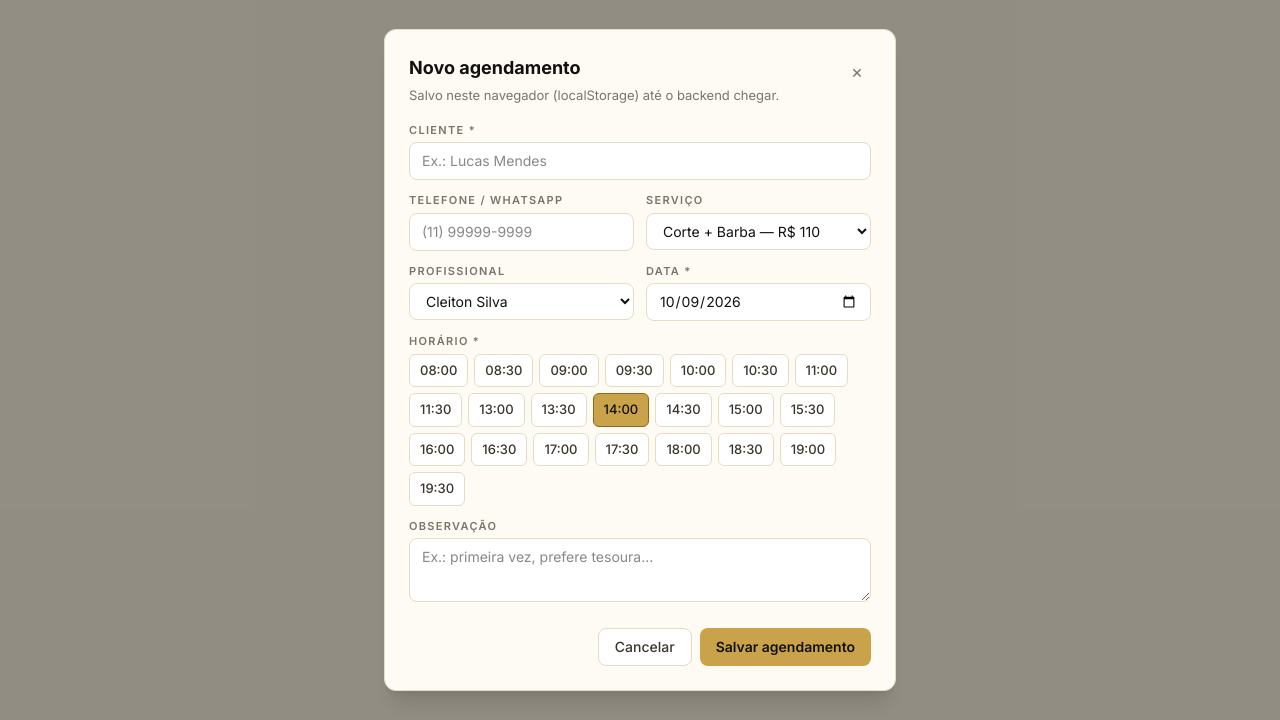
Serviços inativos × novos agendamentos › inativar com o modal aberto recusa salvar serviço inativo
The width and height of the screenshot is (1280, 720).
Type "Ana Souza" into the field labelled "Cliente *" at (640, 161), box [409,142,871,180]
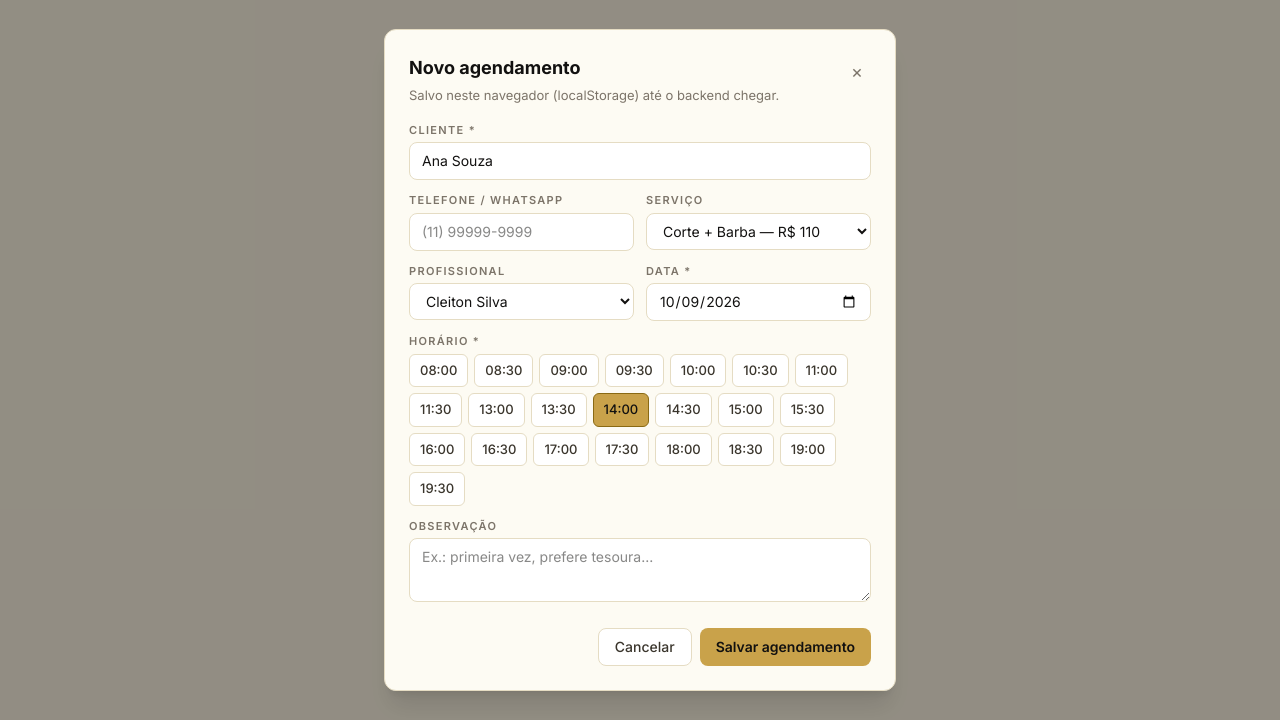
Click the button "Salvar agendamento" at (785, 647), box [700,628,871,666]
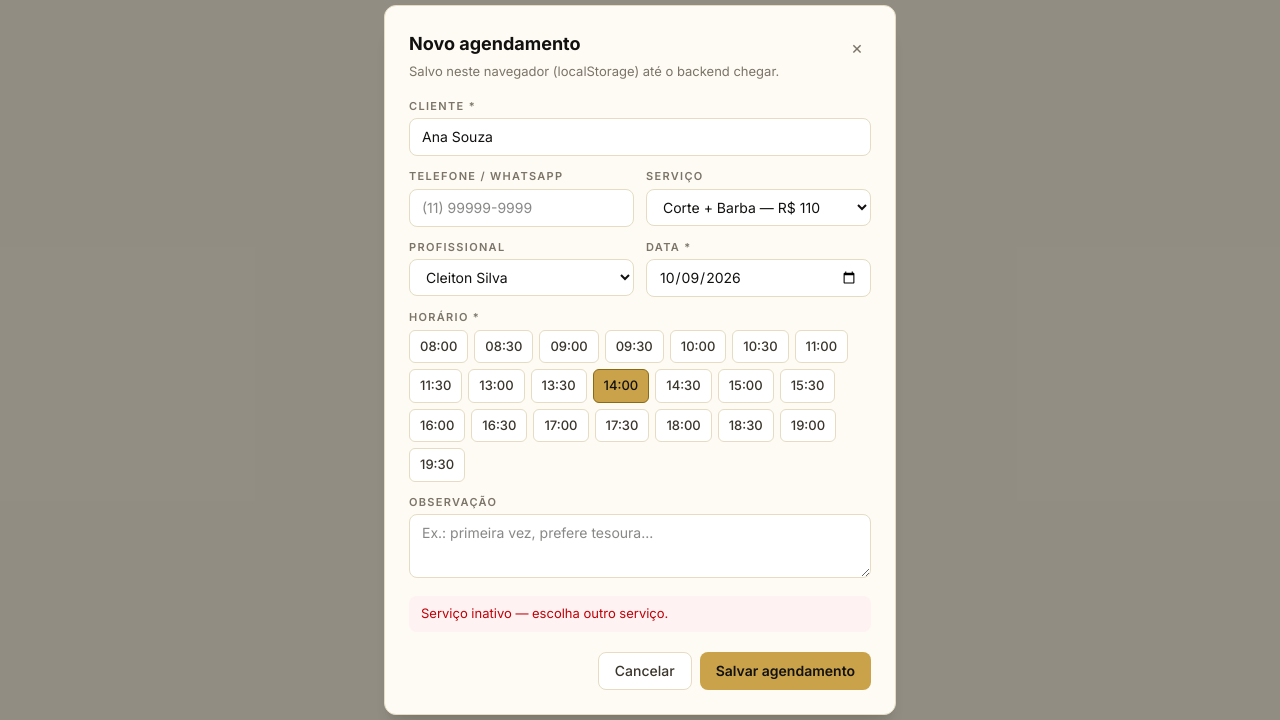
Expected: the text "Serviço inativo — escolha outro serviço." is shown, [409,596,871,632]
